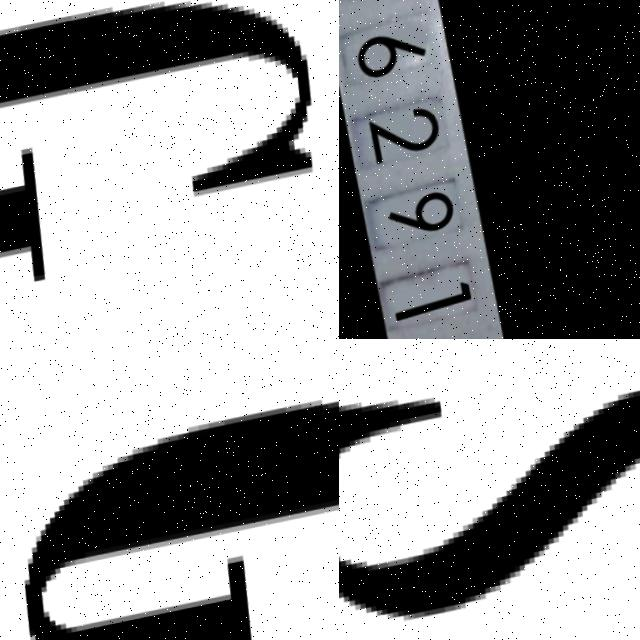1: (387, 259, 488, 334)
2: (358, 95, 461, 173)
6: (344, 13, 444, 89)
9: (380, 180, 472, 250)
G: (0, 0, 339, 332), (0, 353, 339, 640)
S: (339, 339, 640, 640)
